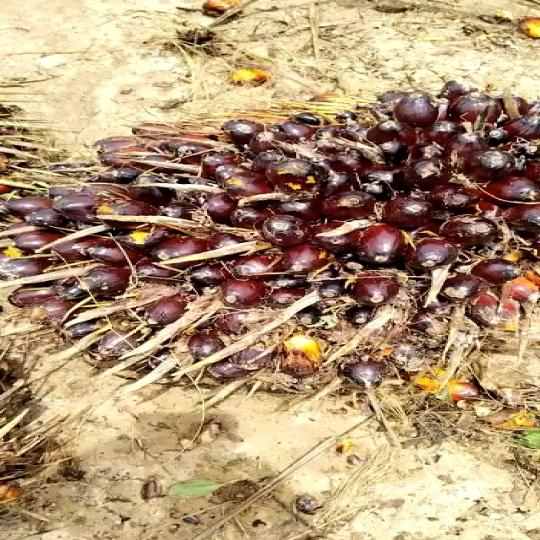mentah: (1, 67, 540, 398)
